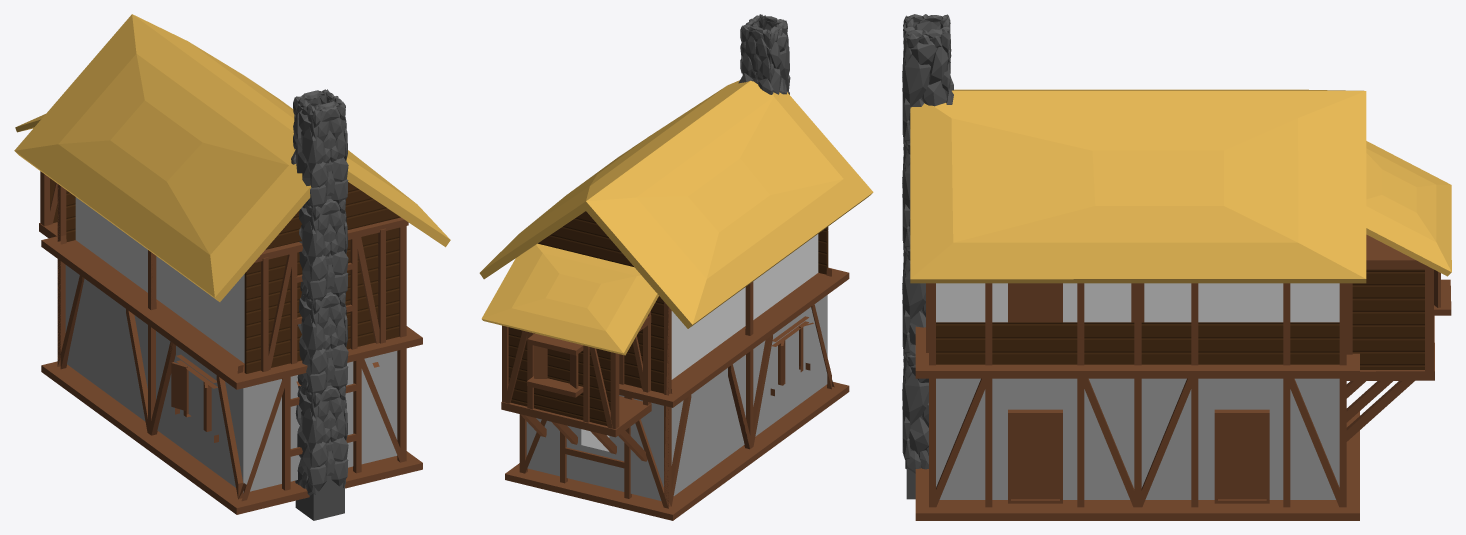
Rendered from building_medium_2.fbx.
The picture shows the model from 3 angles, left to right: view 1: azimuth 30°, elevation 25°; view 2: azimuth 150°, elevation 25°; view 3: azimuth 270°, elevation 25°; orthographic projection. The views are drawn at different scales.
Visible parts, largest first — view 1: Plane.011, Cube.062, Cube.100, Cube.064, Cube.078, Cube.086, Cube.065, Cube.091, Cube.063; view 2: Plane.011, Cube.062, Cube.065, Cube.063, Cube.086, Cube.064, Cube.083, Cube.100, Cube.090, Cube.079, Cube.078; view 3: Plane.011, Cube.062, Cube.065, Cube.066, Cube.064, Cube.086, Cube.100, Cube.084, Cube.063, Cube.089, Cube.087, Cube.096.
Part boxes in pixels (x1,y1,x2,y2): Plane.011: [14, 14, 450, 301]; Cube.062: [41, 184, 422, 514]; Cube.100: [291, 89, 348, 520]; Cube.064: [156, 331, 397, 492]; Cube.078: [244, 228, 399, 373]; Cube.086: [75, 197, 244, 363]; Cube.065: [65, 265, 147, 421]; Cube.091: [265, 182, 400, 249]; Cube.063: [39, 171, 57, 238]; Plane.011: [479, 80, 873, 355]; Cube.062: [505, 267, 849, 520]; Cube.065: [526, 355, 745, 500]; Cube.063: [501, 315, 651, 461]; Cube.086: [671, 234, 818, 379]; Cube.064: [753, 295, 827, 436]; Cube.083: [508, 327, 610, 425]; Cube.100: [738, 14, 790, 94]; Cube.090: [538, 211, 633, 266]; Cube.079: [624, 296, 663, 393]; Cube.078: [818, 227, 828, 274]; Plane.011: [910, 89, 1451, 283]; Cube.062: [915, 283, 1359, 520]; Cube.065: [1141, 378, 1339, 499]; Cube.066: [936, 322, 1339, 364]; Cube.064: [936, 378, 1134, 499]; Cube.086: [936, 283, 1339, 322]; Cube.100: [902, 14, 953, 499]; Cube.084: [1352, 269, 1424, 369]; Cube.063: [1346, 234, 1451, 441]; Cube.089: [1214, 409, 1269, 503]; Cube.087: [1008, 409, 1062, 503]; Cube.096: [1008, 283, 1062, 322].
Size of the model in its own units: 1128 by 1885 by 2000.
